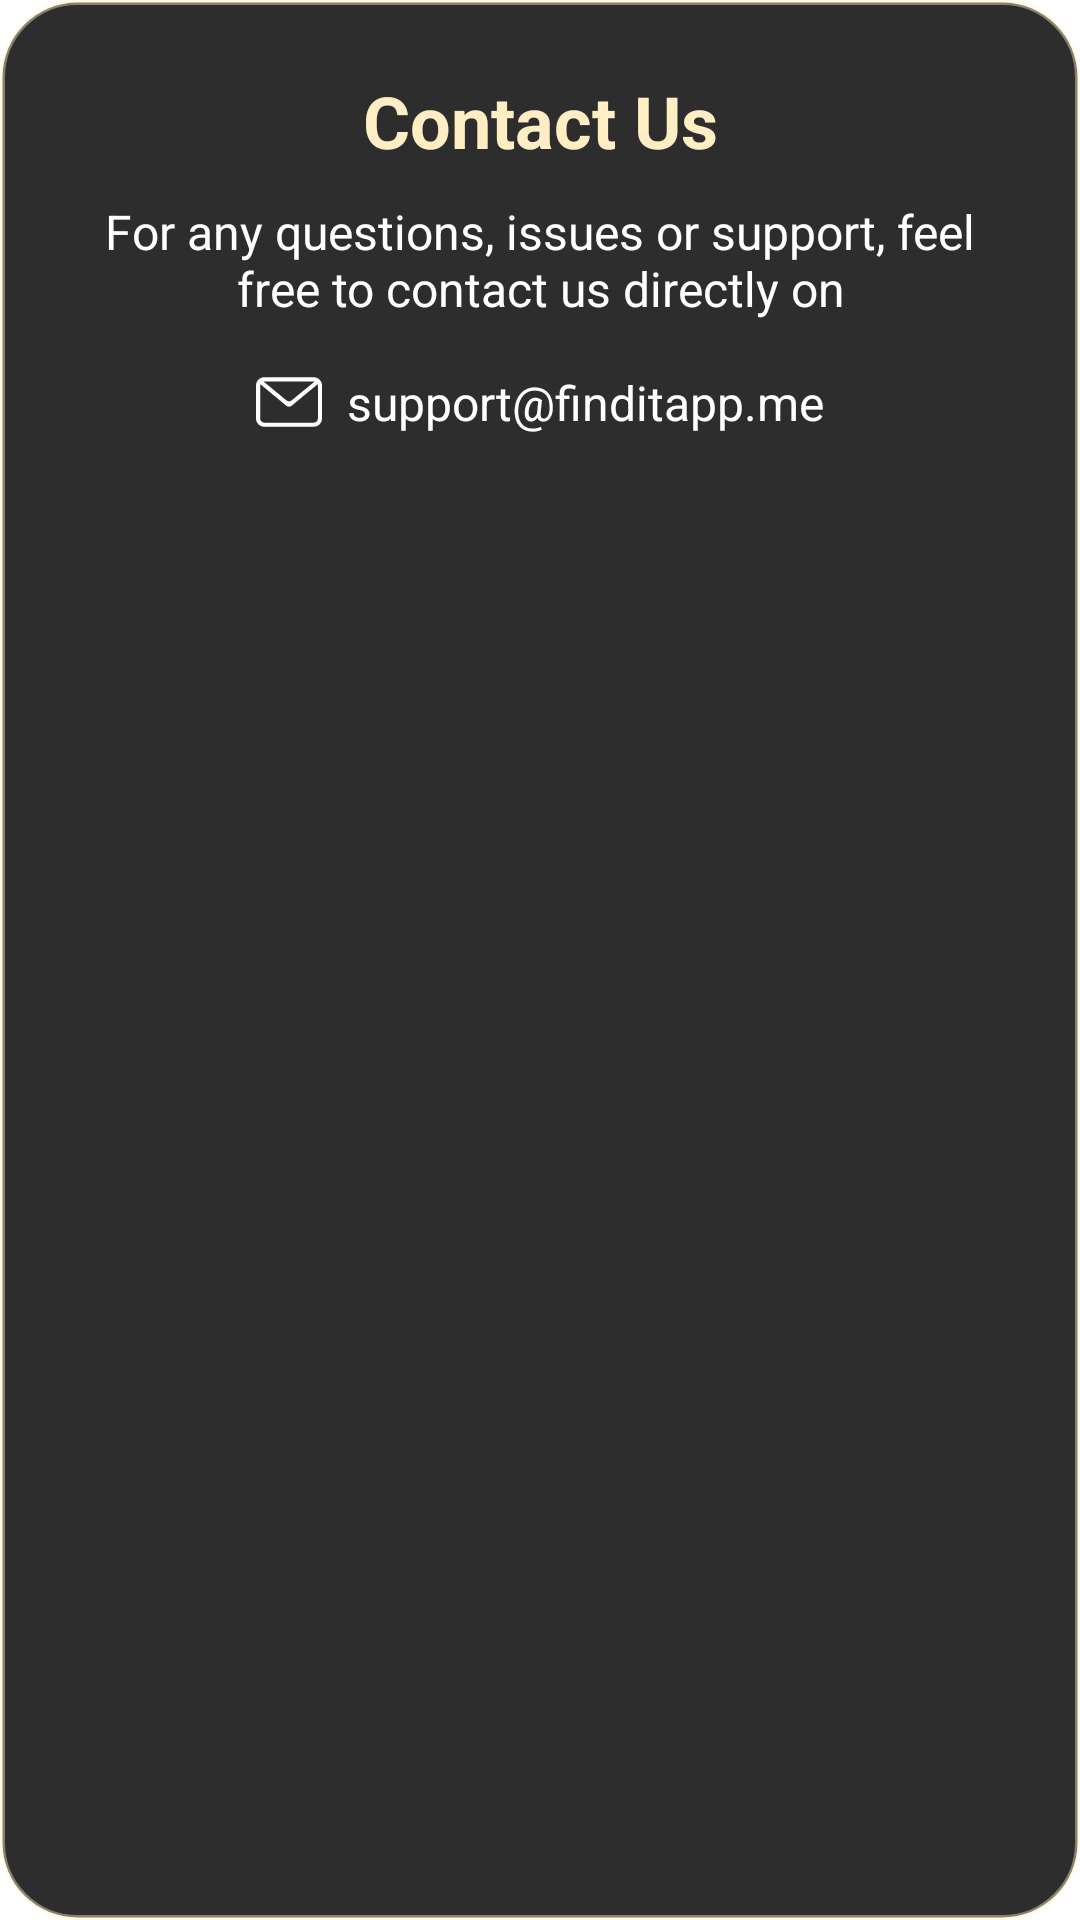

Point at icon controls on the screen. Image size 1080x1920, points as (x=x, y=y).
email: (x=289, y=402)
